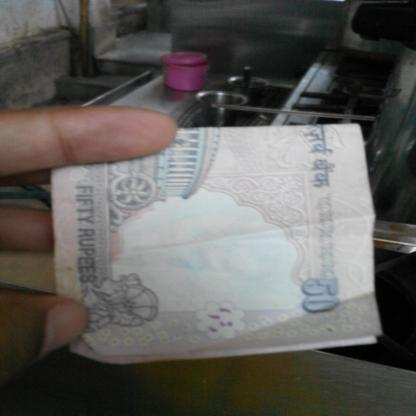Old50Back: (51, 124, 384, 365)
